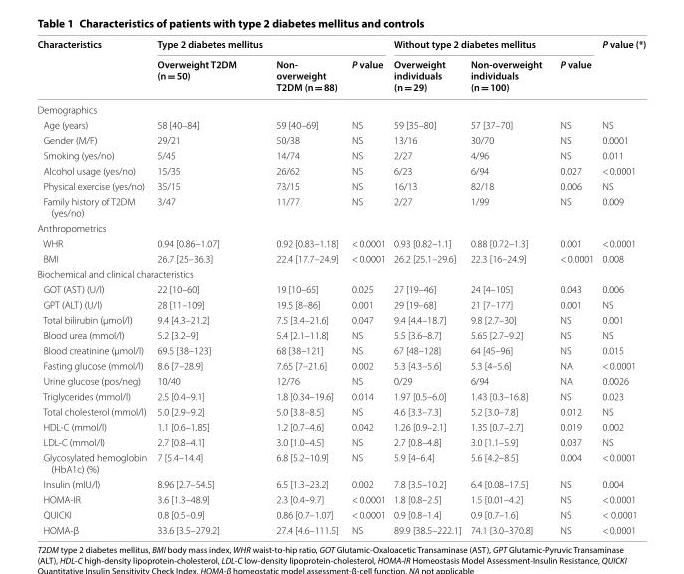table: (36, 37, 645, 535)
table column: (36, 37, 151, 535), (151, 37, 255, 535), (255, 37, 344, 535), (465, 37, 550, 535), (388, 37, 465, 535), (597, 37, 645, 535), (550, 37, 597, 535), (344, 37, 388, 535)
table column header: (36, 37, 645, 101)
table projected row header: (36, 265, 645, 281), (36, 101, 645, 116), (36, 220, 645, 235)
table row: (36, 53, 645, 101), (36, 193, 645, 220), (36, 449, 645, 476), (36, 37, 645, 53), (36, 116, 645, 132), (36, 162, 645, 178), (36, 265, 645, 281), (36, 311, 645, 327), (36, 357, 645, 373), (36, 418, 645, 434), (36, 506, 645, 522), (36, 101, 645, 116), (36, 132, 645, 147), (36, 147, 645, 162), (36, 178, 645, 193), (36, 220, 645, 235), (36, 235, 645, 250), (36, 250, 645, 265), (36, 281, 645, 296), (36, 296, 645, 311), (36, 327, 645, 342), (36, 342, 645, 357), (36, 373, 645, 388), (36, 388, 645, 403), (36, 403, 645, 418), (36, 434, 645, 449), (36, 476, 645, 491), (36, 491, 645, 506), (36, 522, 645, 535)
table spanning cell: (36, 37, 151, 101), (151, 37, 388, 53), (388, 37, 597, 53), (597, 37, 645, 101)
